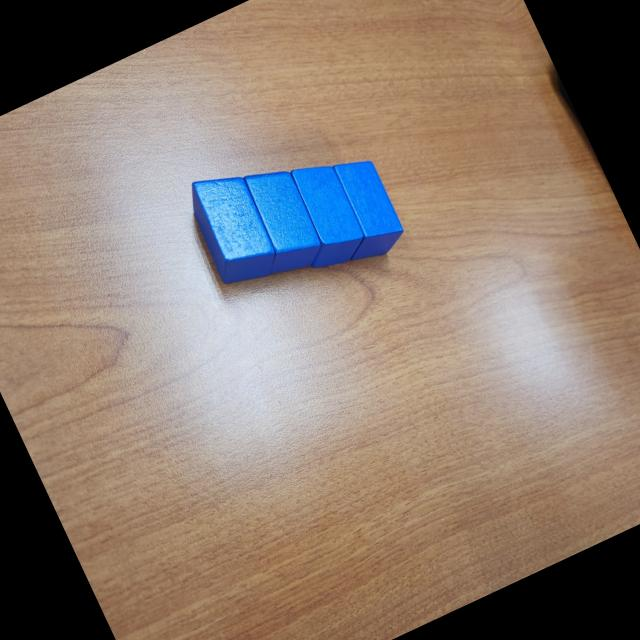blue: (179, 162, 287, 294), (227, 156, 332, 284), (272, 153, 374, 277), (312, 150, 410, 268)
